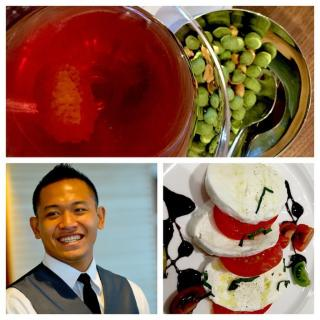tomato: (213, 206, 277, 248), (219, 242, 284, 278), (289, 222, 313, 251), (277, 221, 296, 250), (292, 262, 312, 285)
